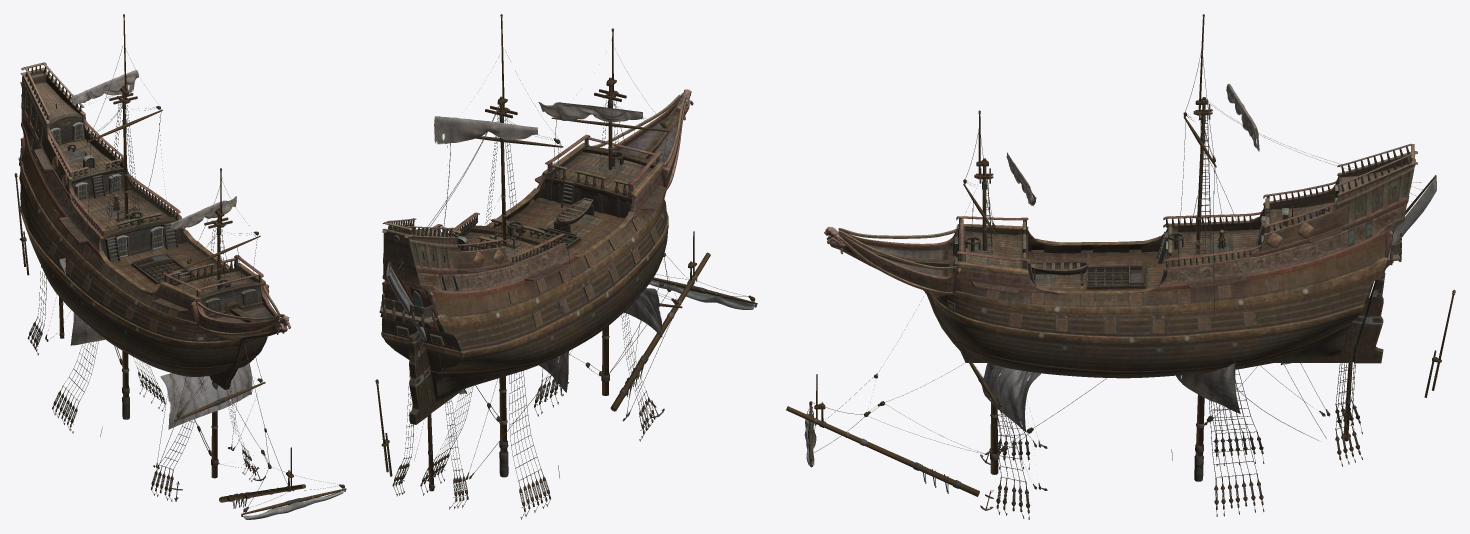
File: ship2.glb
3 renders of one model, left to right at view 1: azimuth 30°, elevation 25°; view 2: azimuth 150°, elevation 25°; view 3: azimuth 270°, elevation 25°, orthographic. The views are drawn at different scales.
Visible parts, largest first — view 1: dutch_ship_large_02_hull, dutch_ship_large_02_rigging, dutch_ship_large_02_sails; view 2: dutch_ship_large_02_hull, dutch_ship_large_02_rigging, dutch_ship_large_02_sails; view 3: dutch_ship_large_02_hull, dutch_ship_large_02_rigging, dutch_ship_large_02_sails.
Boxes of the visible parts, <box> form: dutch_ship_large_02_hull: <box>18,62,290,389</box>; dutch_ship_large_02_rigging: <box>14,14,346,519</box>; dutch_ship_large_02_sails: <box>59,70,252,429</box>; dutch_ship_large_02_hull: <box>379,89,693,424</box>; dutch_ship_large_02_rigging: <box>375,14,757,519</box>; dutch_ship_large_02_sails: <box>434,102,662,392</box>; dutch_ship_large_02_hull: <box>824,143,1417,378</box>; dutch_ship_large_02_rigging: <box>786,14,1455,519</box>; dutch_ship_large_02_sails: <box>982,83,1259,431</box>.
Size of the model in its own units: 274870 by 892552 by 1122310.
Materials: 3 (3 with a texture image).
